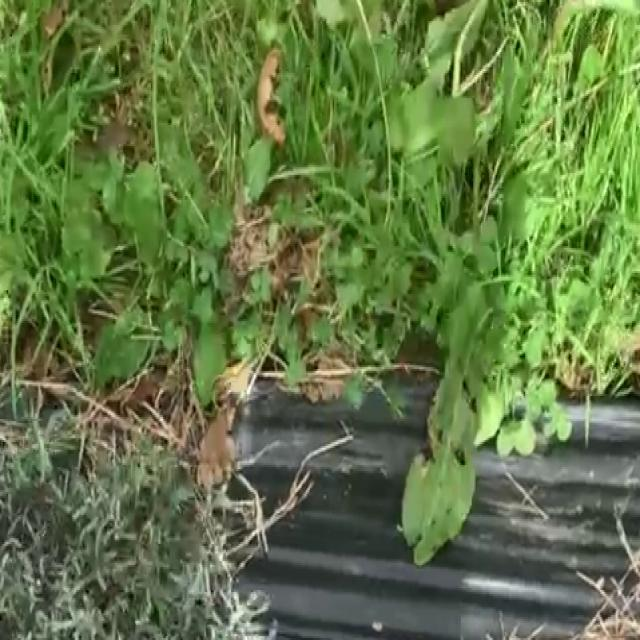organic waste: (388, 250, 562, 605), (83, 116, 278, 362), (334, 23, 486, 217)
